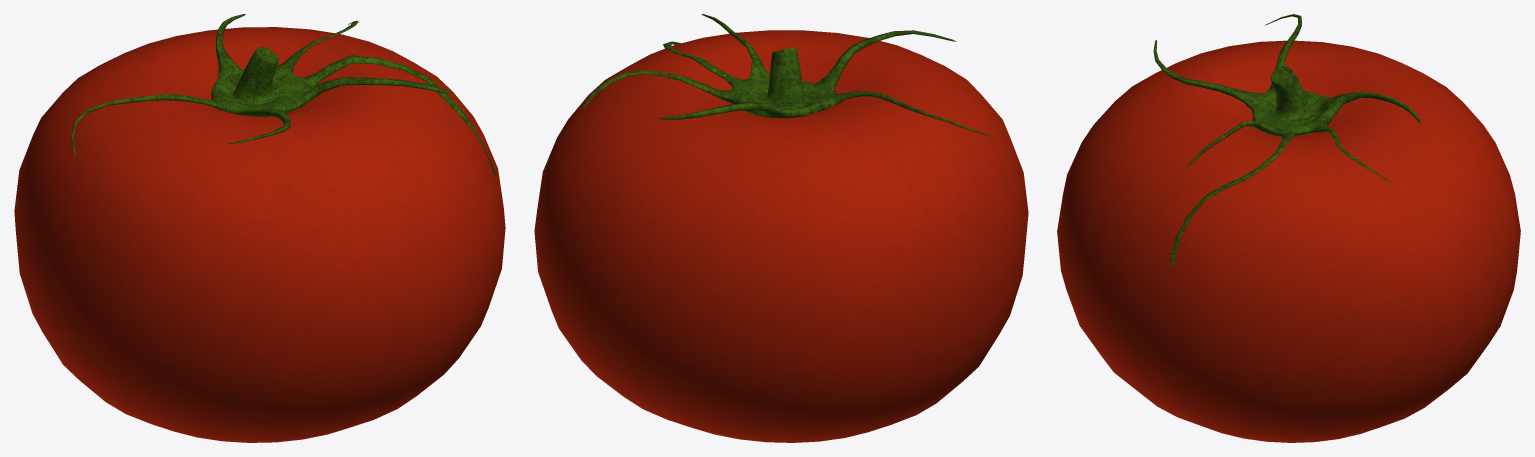
The model's file is StockTomato_Visual.fbx.
3 views of the same model, side by side, from view 1: azimuth 30°, elevation 25°; view 2: azimuth 150°, elevation 25°; view 3: azimuth 270°, elevation 25° (orthographic). The views are drawn at different scales.
Parts seen in each view (by area): view 1: StockTomato; view 2: StockTomato; view 3: StockTomato.
Part boxes in pixels (box(x1,y1,x2,y2)): StockTomato: box(14, 14, 505, 442); StockTomato: box(534, 14, 1028, 442); StockTomato: box(1057, 14, 1520, 442).
Size of the model in its own units: 7.24 by 5.89 by 7.28.
1 material, 1 textured.
